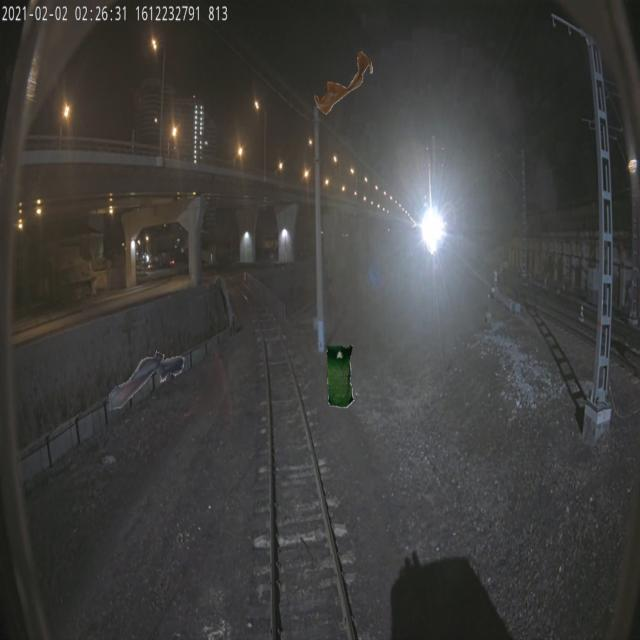floating object: (109, 346, 185, 411), (314, 50, 373, 114)
plastic bag: (327, 343, 354, 408)
